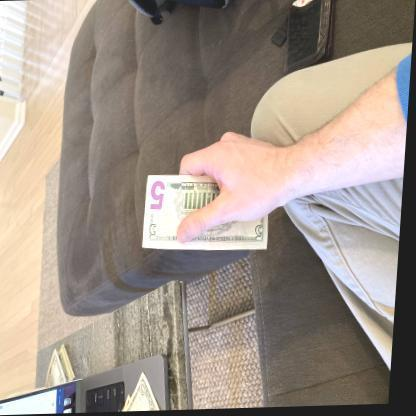dollar_back: (145, 171, 275, 254)
